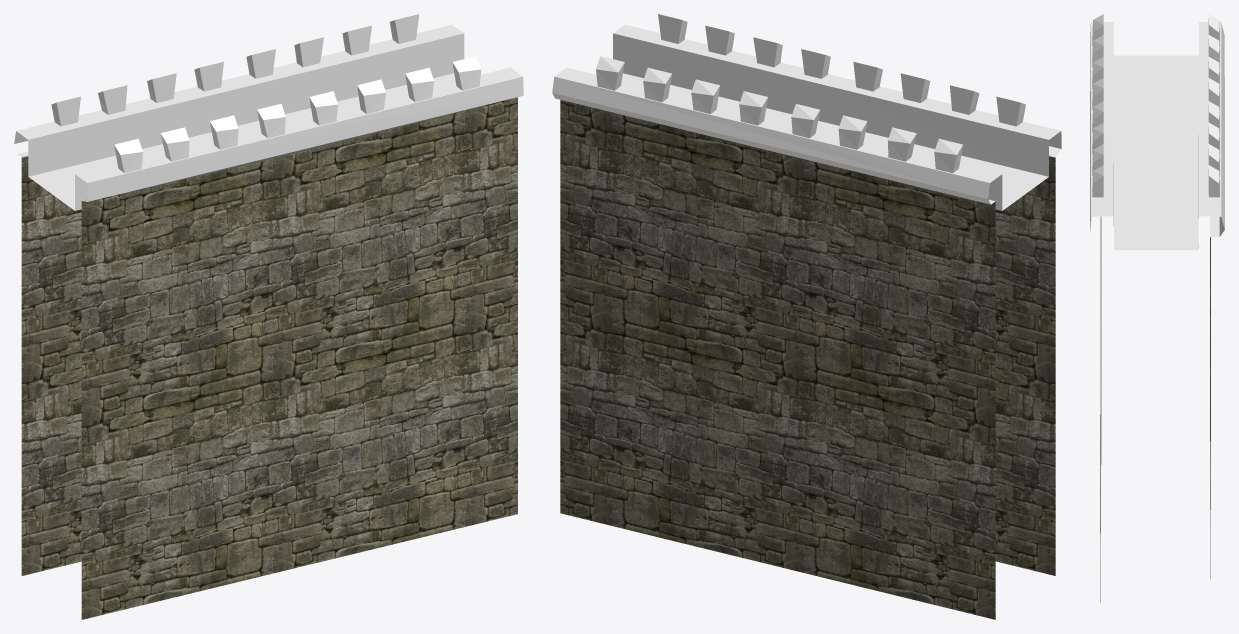
The model's file is wall1_LOD1.fbx.
3 views of the same model, side by side, from view 1: azimuth 30°, elevation 25°; view 2: azimuth 150°, elevation 25°; view 3: azimuth 270°, elevation 25° (orthographic). The views are drawn at different scales.
Parts seen in each view (by area): view 1: Default_Layer; view 2: Default_Layer; view 3: Default_Layer.
Boxes of the visible parts, bbox=[...] form: Default_Layer: bbox=[14, 14, 523, 619]; Default_Layer: bbox=[552, 14, 1061, 619]; Default_Layer: bbox=[1090, 14, 1224, 602].
Size of the model in its own units: 2038 by 2084 by 597.
